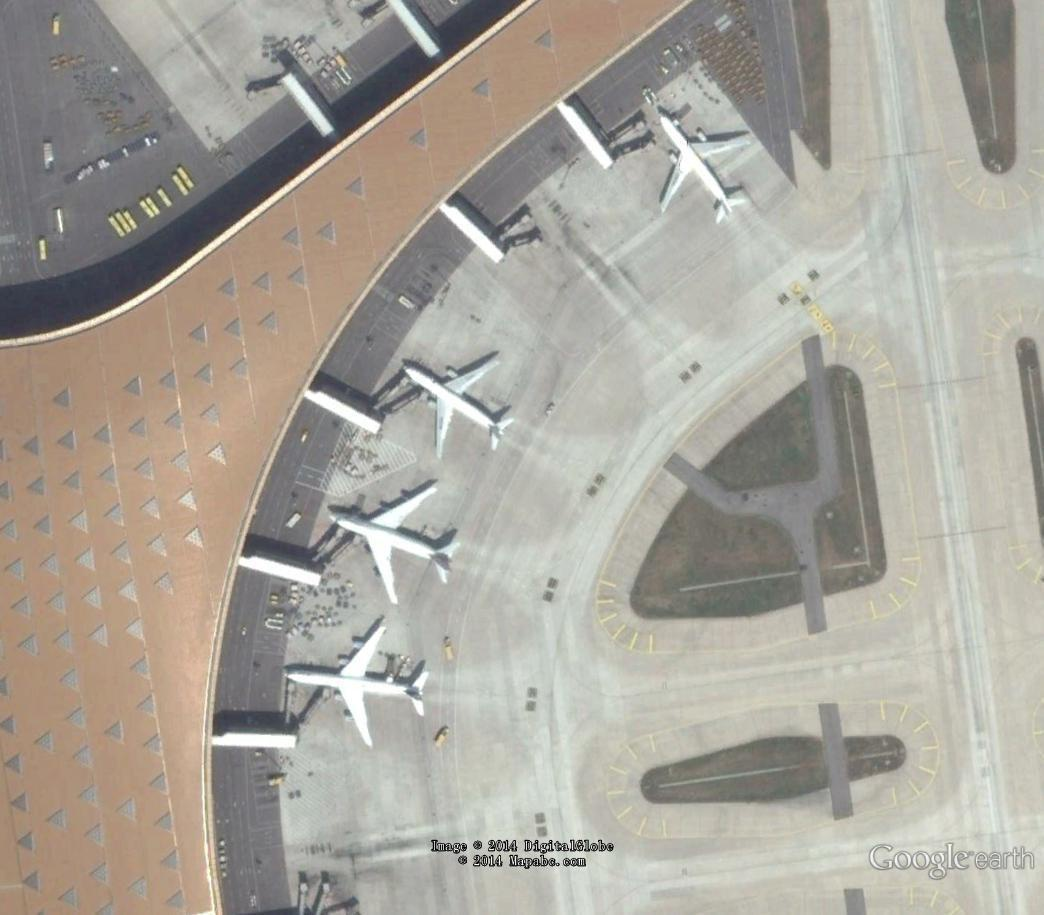aircraft: (277, 618, 433, 754), (321, 480, 466, 607), (396, 352, 522, 465), (651, 102, 754, 228)
